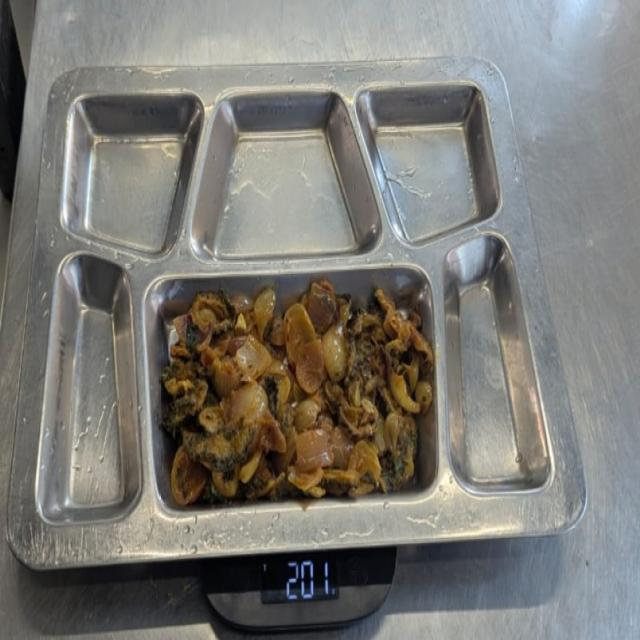Karela Sabji: (170, 304, 424, 501)
